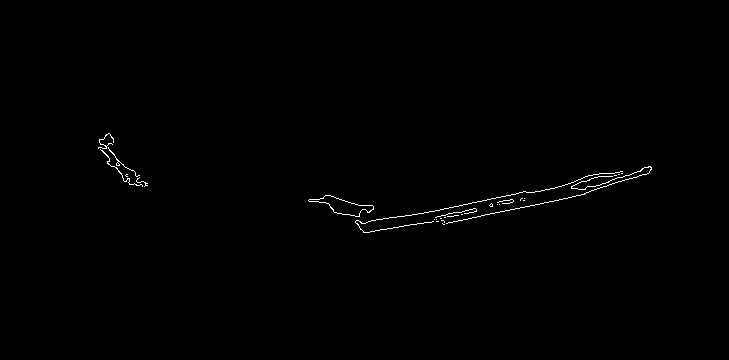fracture: (345, 172, 385, 262)
